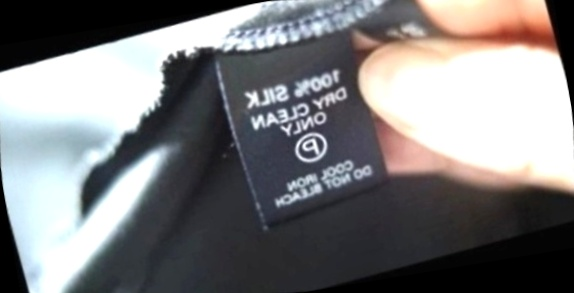dry_clean_any_solvent_except_trichloroethylene: (280, 118, 340, 176)
